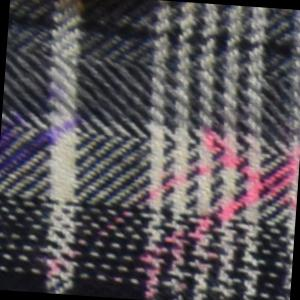Stain: (45, 112, 300, 300), (1, 78, 109, 197), (9, 1, 176, 38)
